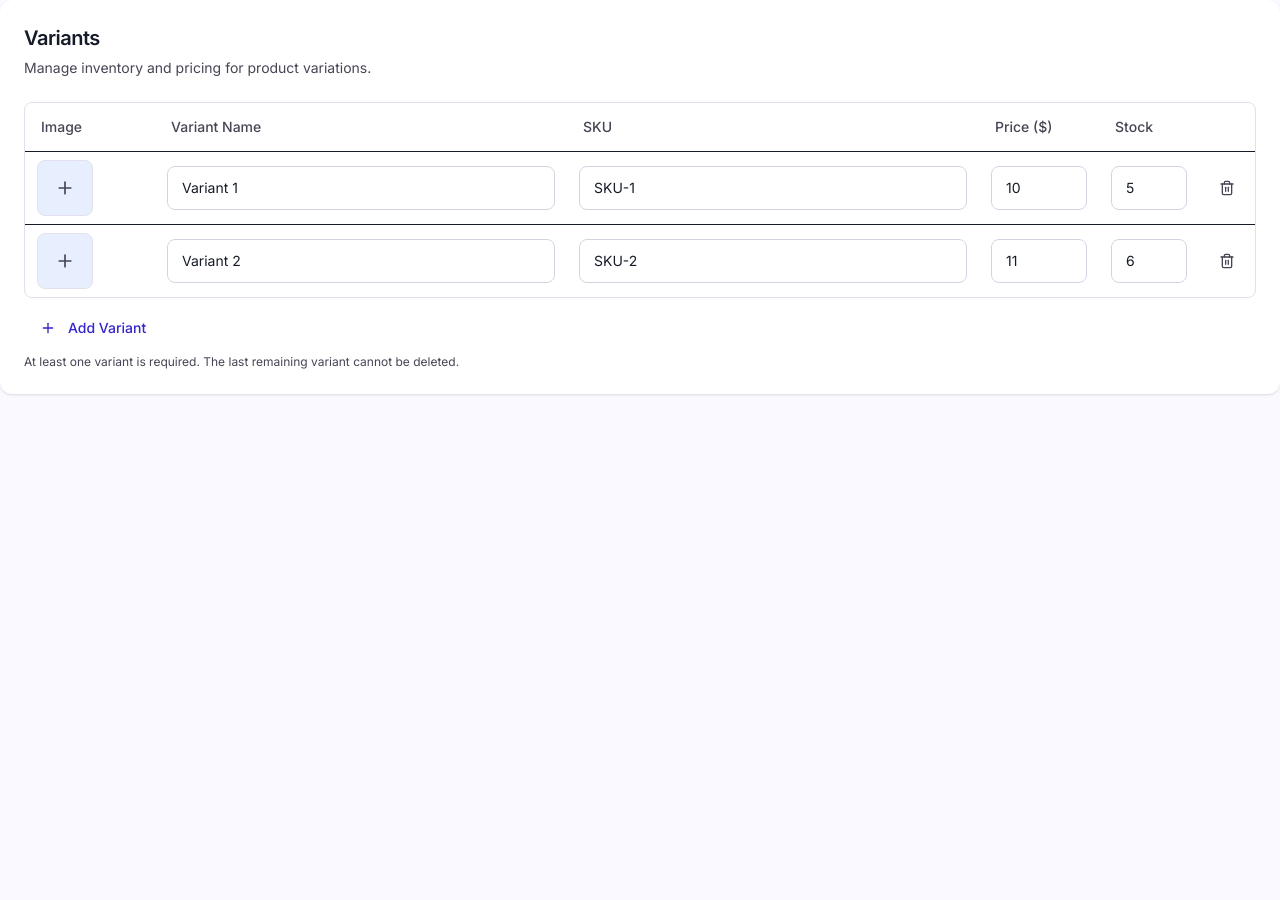
Test: VariantsSection › opens confirmation dialog when delete button is clicked and deletes on confirm
The image size is (1280, 900).
Click the 1st button named "delete".
click(1227, 188)  # box [1211, 172, 1243, 204]
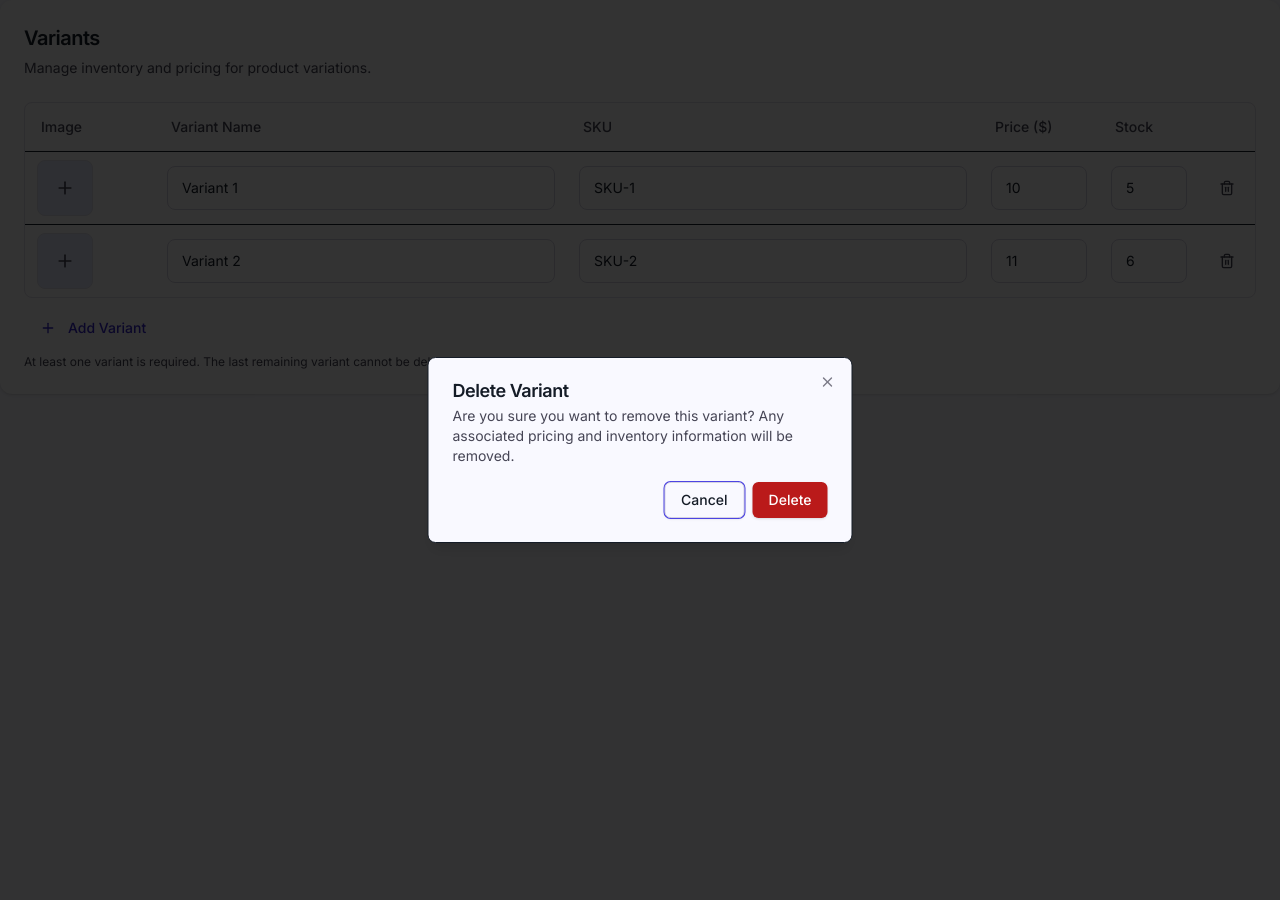
Check: the dialog is shown, box [428, 357, 852, 543]
Check: the heading "Delete Variant" is shown, box [452, 380, 569, 401]
Click the button "Delete".
click(790, 500)  # box [753, 482, 828, 518]
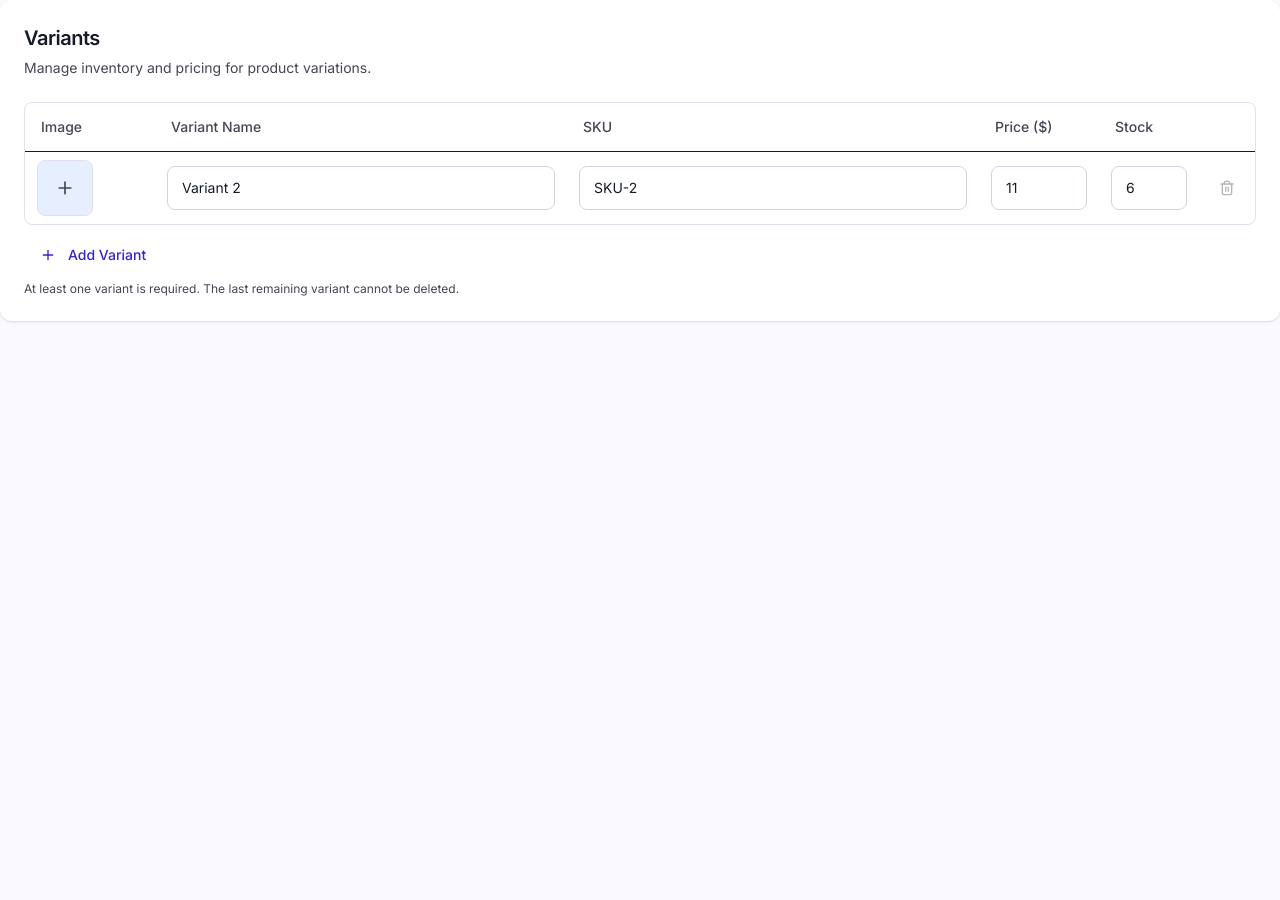
Check: the dialog is gone
Check: the number of buttons named "delete" is 1, box [1211, 172, 1243, 204]
